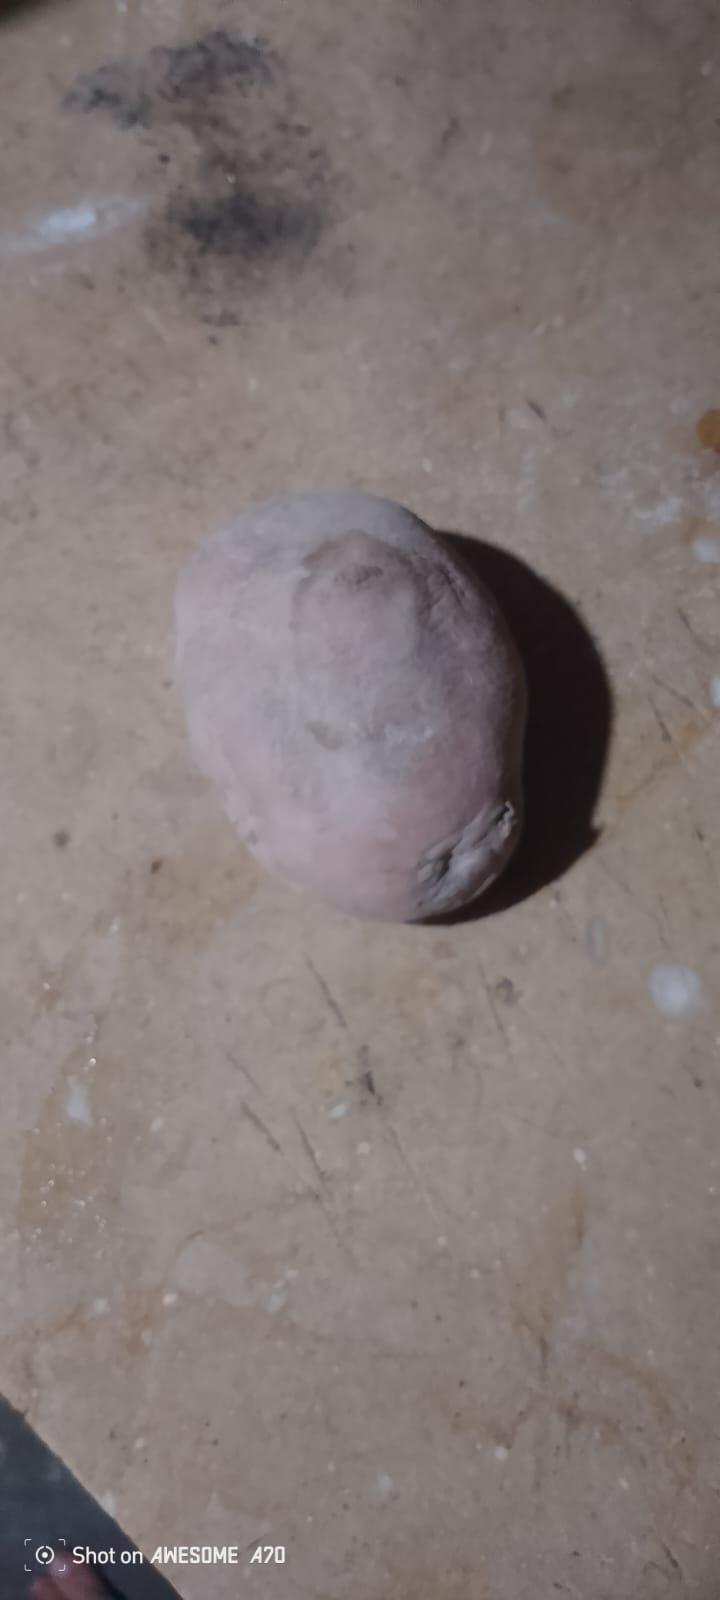non-mango: (180, 457, 547, 924)
